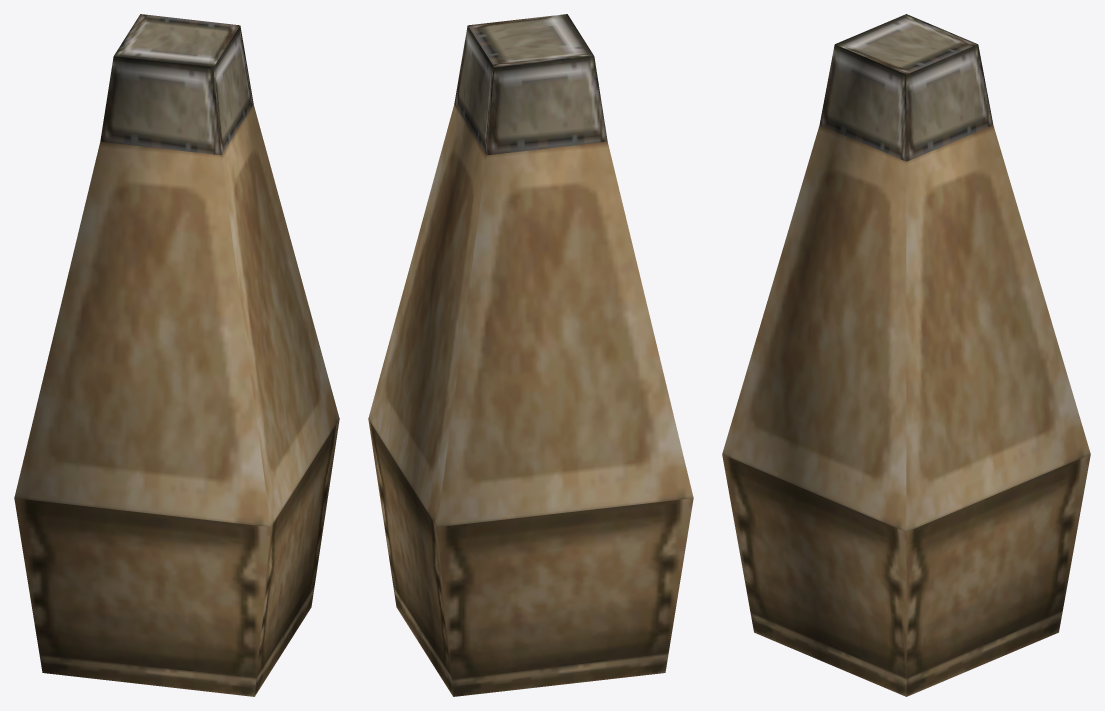
Rendered from INST_RIVENDELL_FLASK10.fbx.
The picture shows the model from 3 angles, left to right: view 1: azimuth 30°, elevation 25°; view 2: azimuth 150°, elevation 25°; view 3: azimuth 270°, elevation 25°; orthographic projection.
Parts seen in each view (by area): view 1: INST_RIVENDELL_FLASK10; view 2: INST_RIVENDELL_FLASK10; view 3: INST_RIVENDELL_FLASK10.
Boxes of the visible parts, x1,y1,x2,y2 form: INST_RIVENDELL_FLASK10: [14, 14, 339, 696]; INST_RIVENDELL_FLASK10: [368, 14, 693, 696]; INST_RIVENDELL_FLASK10: [722, 14, 1090, 696].
Bounding box in the file's own units: 2458 × 4327 × 2458.
2 materials, 2 textured.
